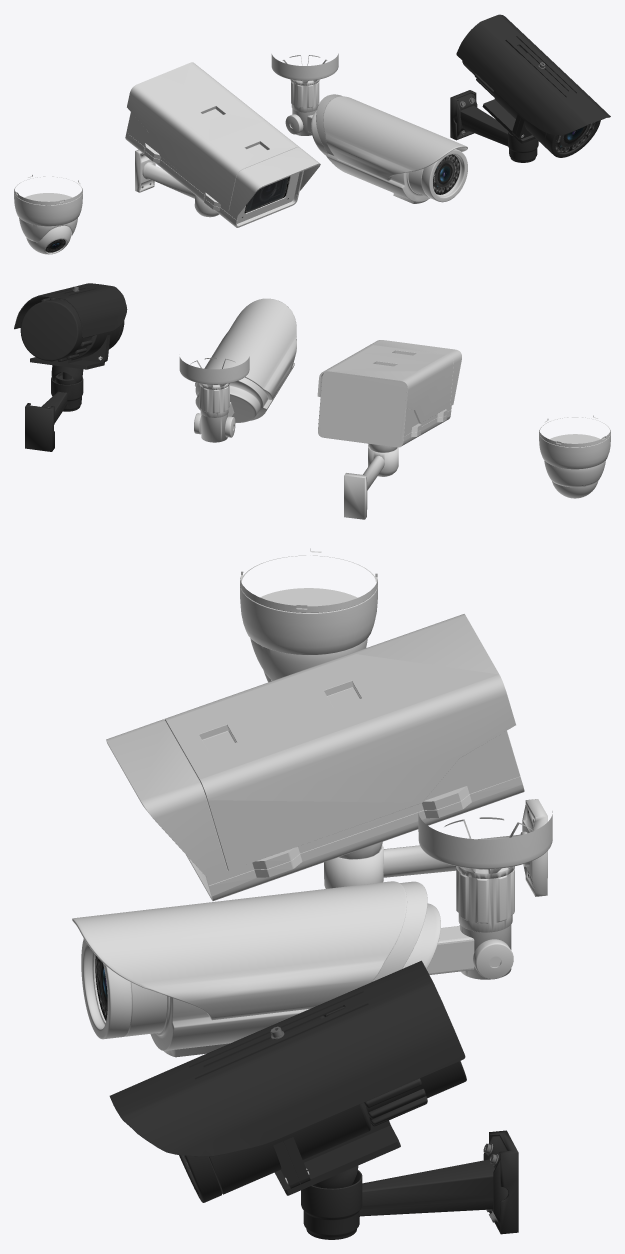
3 renders of one model, top to bottom at view 1: azimuth 30°, elevation 25°; view 2: azimuth 150°, elevation 25°; view 3: azimuth 270°, elevation 25°, orthographic. The views are drawn at different scales.
Visible parts, largest first — view 1: object 4, SM_SXT_002, SM_SXT_001, SM_SXT_003; view 2: object 4, SM_SXT_002, SM_SXT_001, SM_SXT_003; view 3: object 4, SM_SXT_002, SM_SXT_001, SM_SXT_003.
Boxes of the visible parts, box(x1,y1,x2,y2) form: object 4: box(125, 62, 320, 227); SM_SXT_002: box(450, 14, 610, 162); SM_SXT_001: box(271, 53, 467, 203); SM_SXT_003: box(14, 175, 82, 254); object 4: box(317, 340, 461, 519); SM_SXT_002: box(14, 283, 127, 451); SM_SXT_001: box(179, 298, 296, 442); SM_SXT_003: box(539, 415, 610, 498); object 4: box(106, 614, 547, 900); SM_SXT_002: box(109, 960, 518, 1239); SM_SXT_001: box(72, 811, 552, 1057); SM_SXT_003: box(240, 548, 377, 682).
Size of the model in its own units: 748 by 181 by 281.
6 materials, 3 textured.
